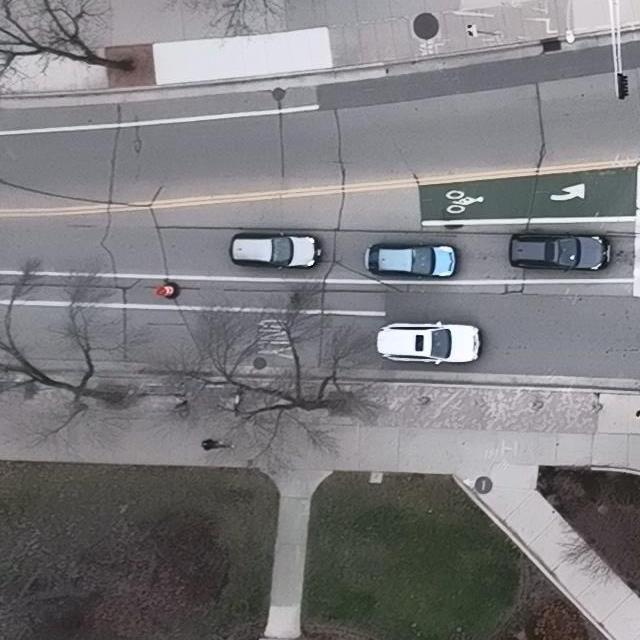car: (376, 319, 482, 364), (509, 229, 612, 273), (365, 241, 456, 280), (230, 231, 321, 270)
